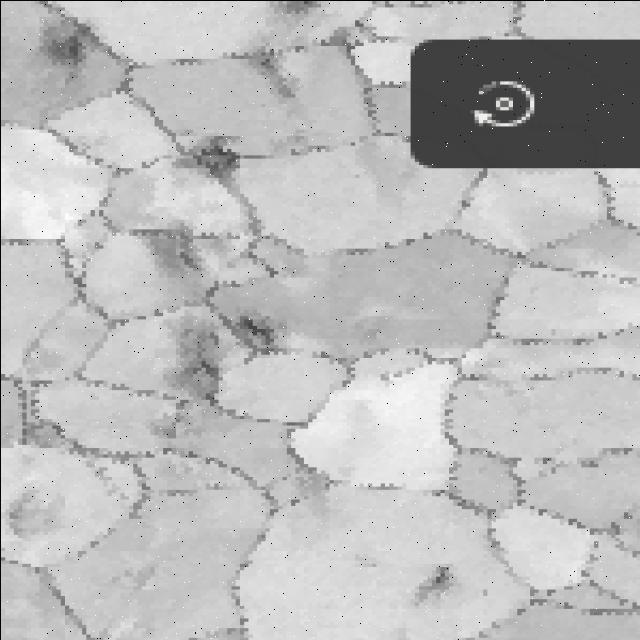good_void: (155, 318, 232, 440), (0, 469, 93, 552), (133, 206, 214, 290), (155, 123, 248, 191), (233, 43, 317, 107), (404, 545, 463, 619), (27, 18, 100, 77), (229, 295, 288, 354), (257, 0, 324, 37), (319, 21, 352, 44)
